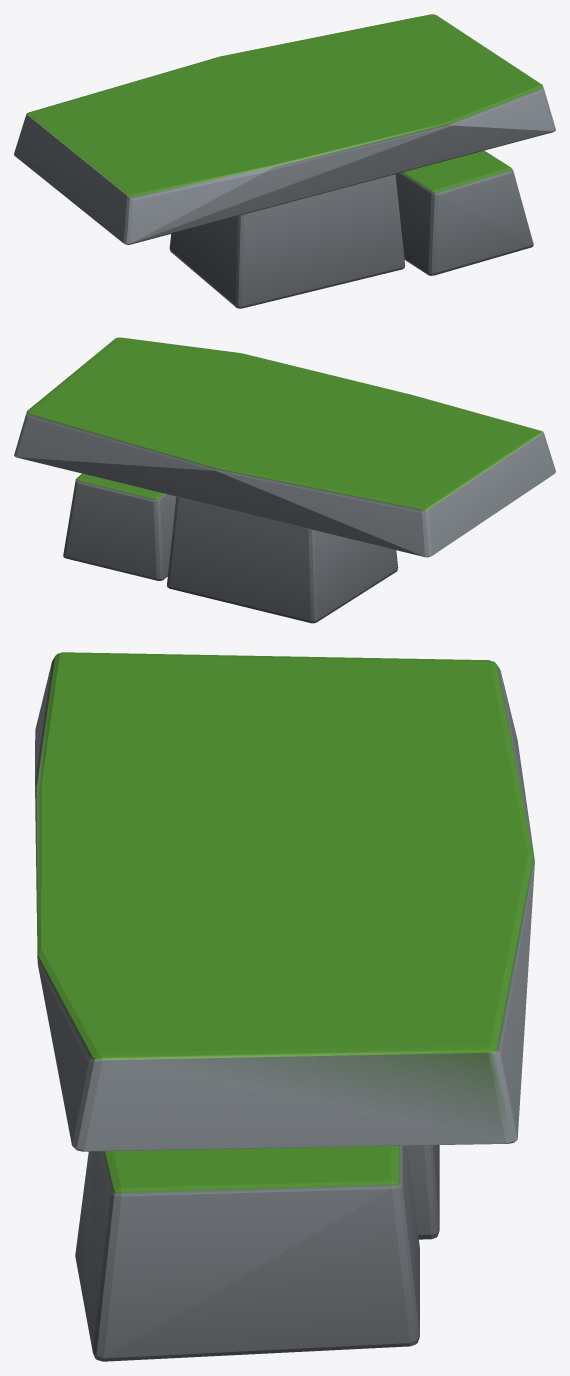
Rendered from Rock_Platform_Moss_01.fbx.
3 views of the same model, one above another, from view 1: azimuth 30°, elevation 25°; view 2: azimuth 150°, elevation 25°; view 3: azimuth 270°, elevation 25° (orthographic). The views are drawn at different scales.
Parts seen in each view (by area): view 1: Rock_Platform_Moss_01; view 2: Rock_Platform_Moss_01; view 3: Rock_Platform_Moss_01.
Boxes of the visible parts, x1=… form: Rock_Platform_Moss_01: x1=14, y1=14, x2=555, y2=308; Rock_Platform_Moss_01: x1=14, y1=337, x2=555, y2=623; Rock_Platform_Moss_01: x1=35, y1=652, x2=534, y2=1361.
Size of the model in its own units: 519 by 180 by 259.
